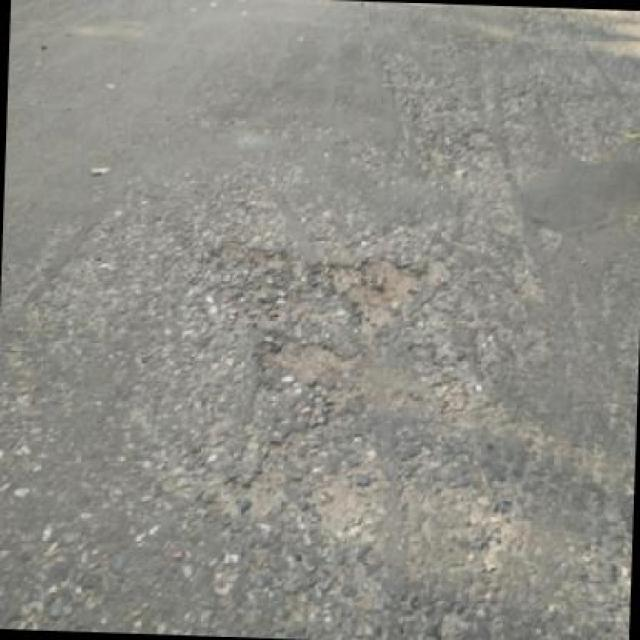pothole1: (329, 254, 423, 335), (258, 332, 348, 383)
